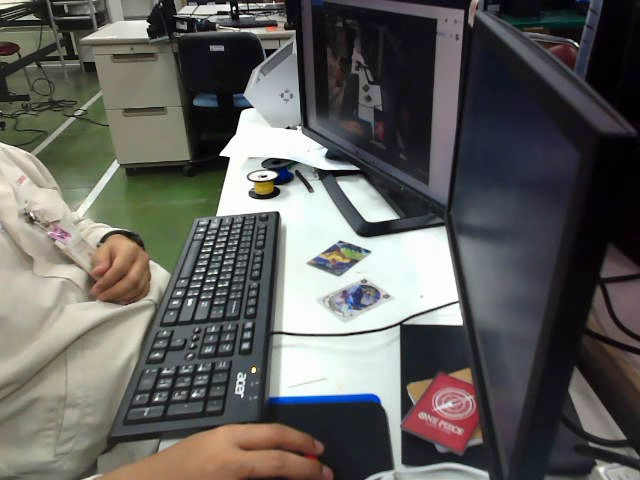can: (316, 274, 390, 319), (303, 239, 376, 276)
